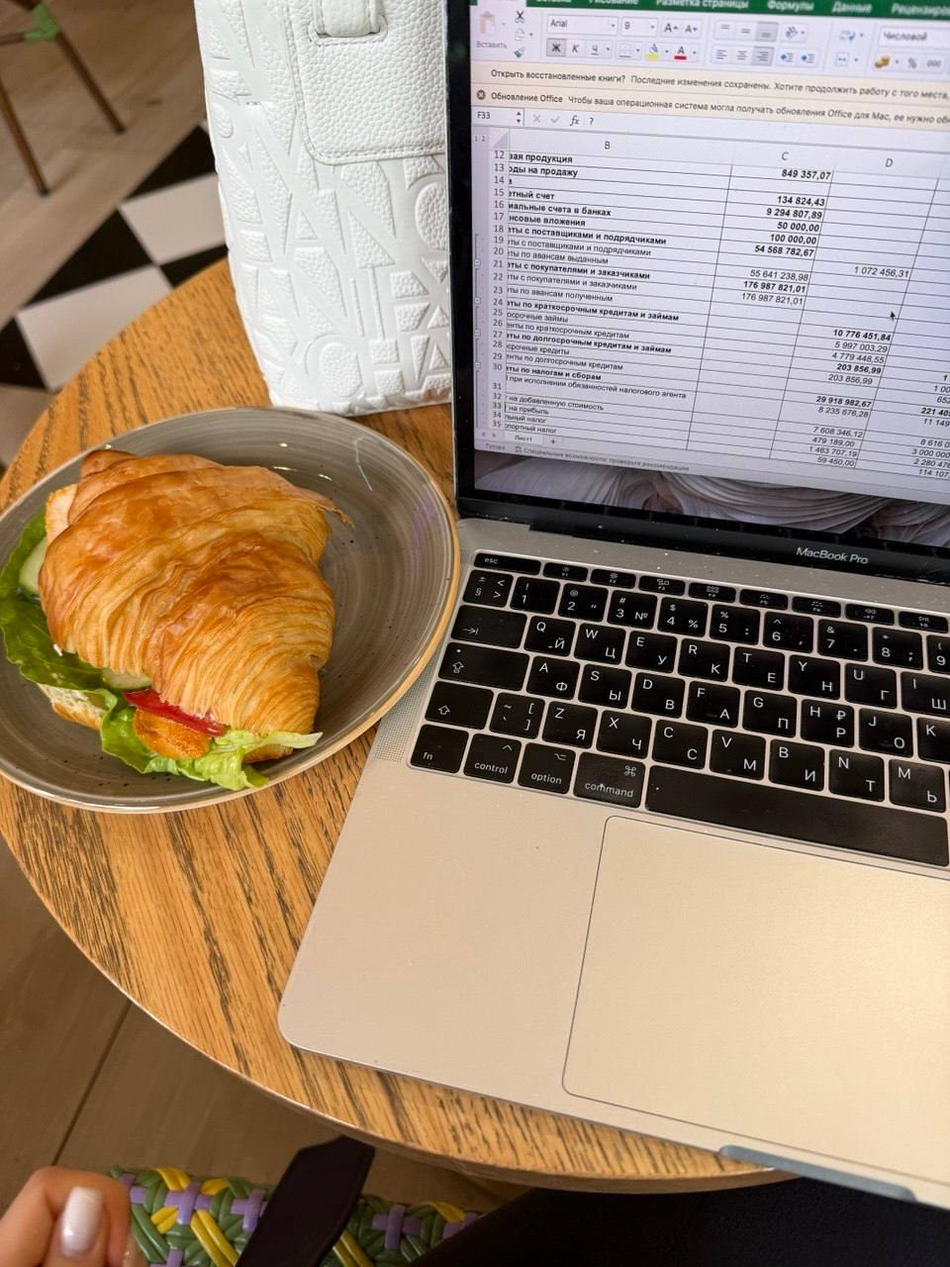laptop: (275, 1, 949, 1212)
